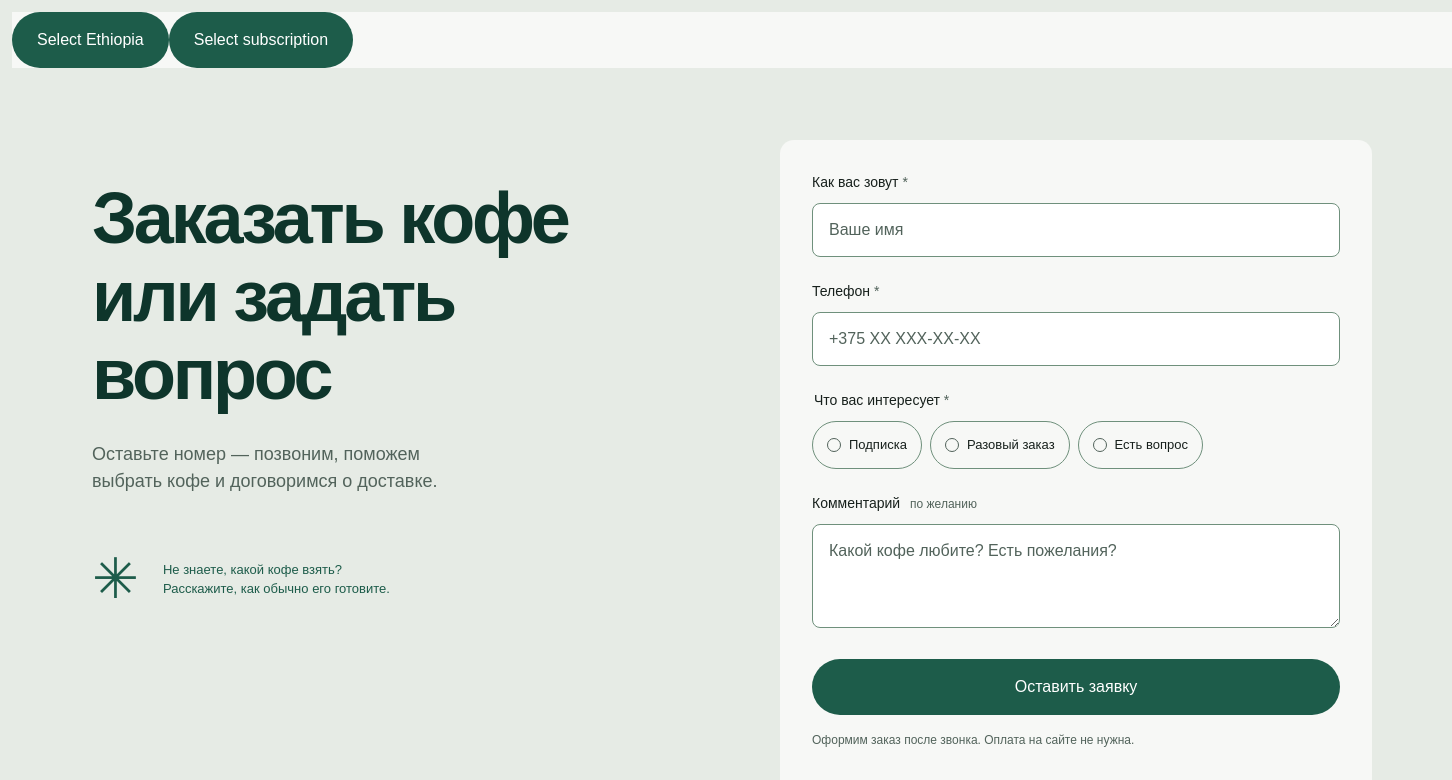
Scenario: preserves an edited comment and contacts while switching product to subscription
This screenshot has width=1452, height=780.
Step 1. Type "Тест" into the field labelled "Как вас зовут *" → x=1076, y=230, box [812, 203, 1340, 257]
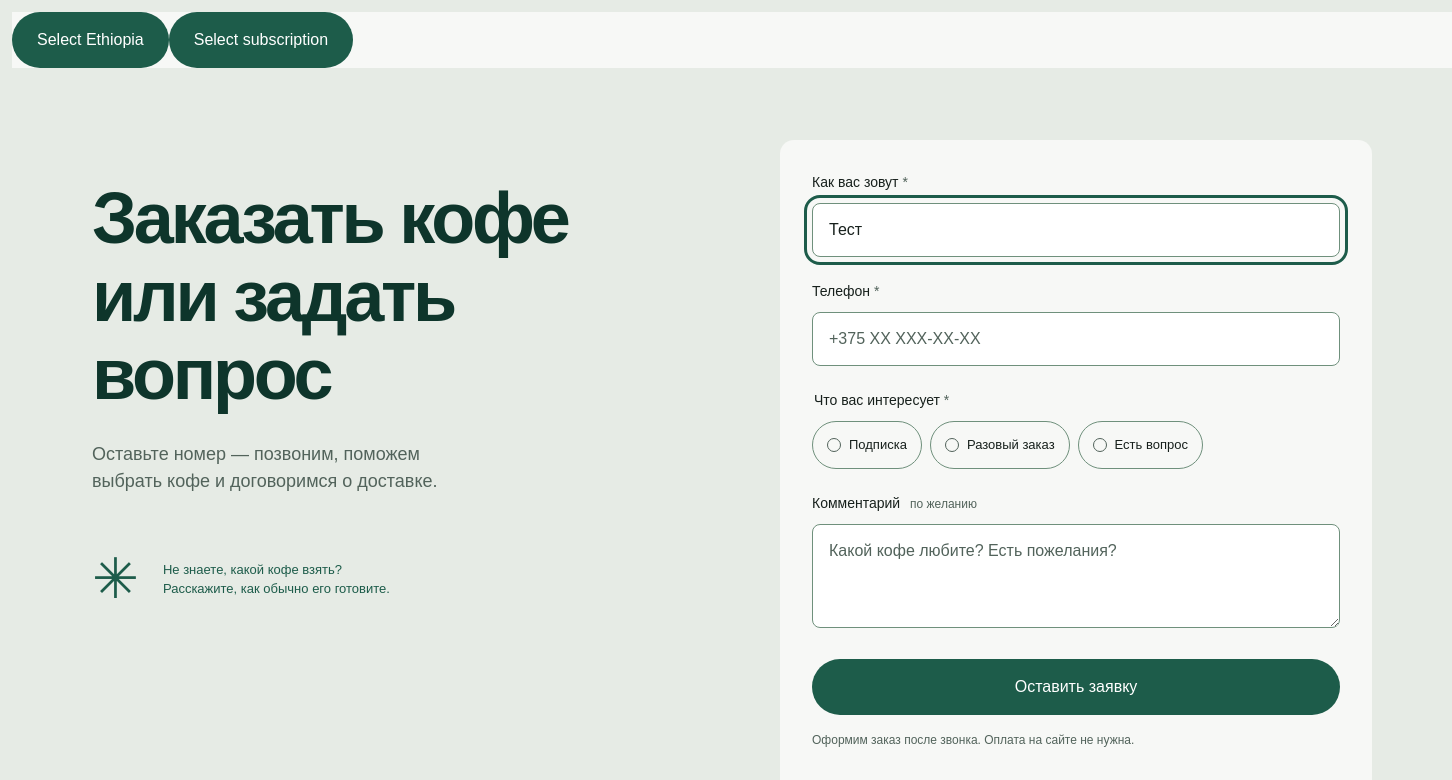
Step 2. Type "Без помола" into the text box labelled "Комментарий по желанию" → x=1076, y=576, box [812, 524, 1340, 628]
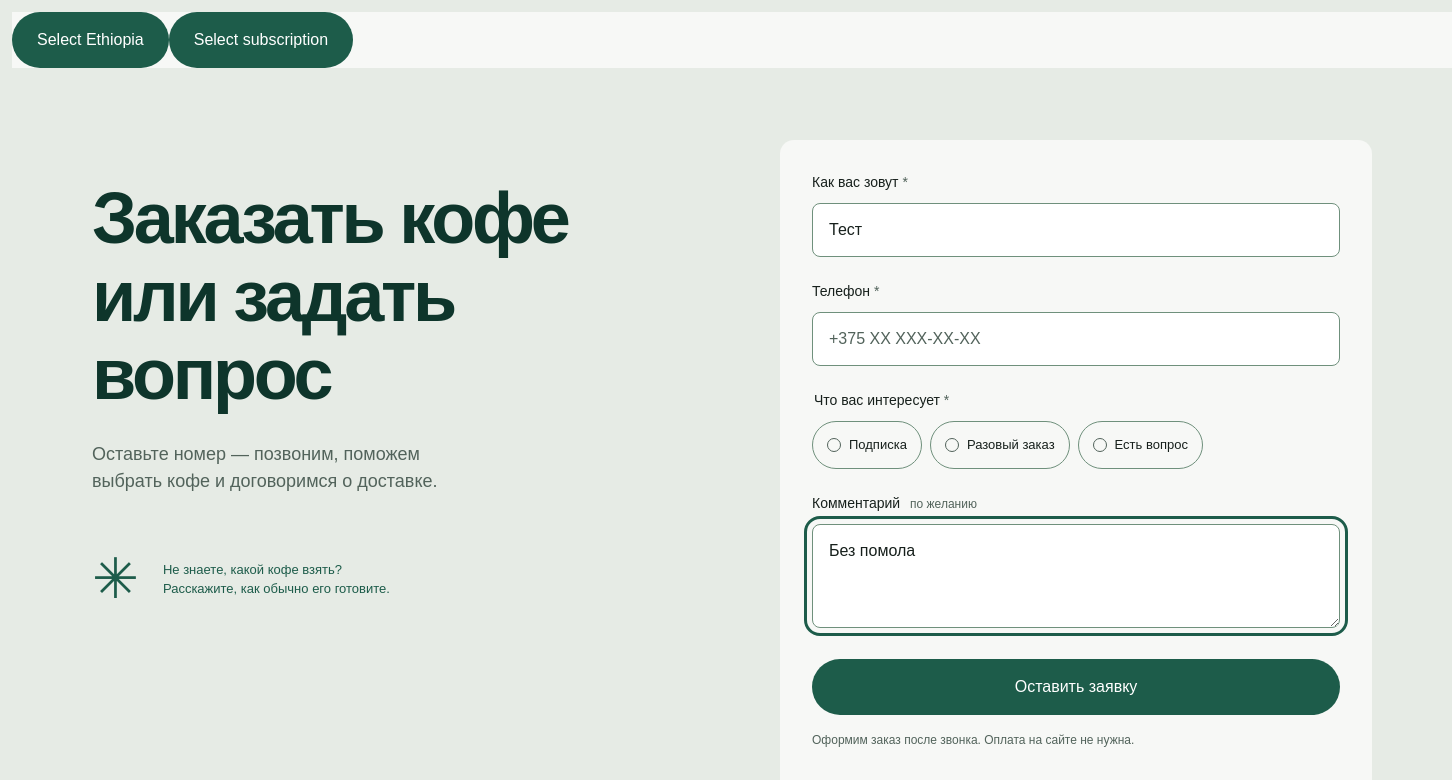
Step 3. Click the button "Select Ethiopia" → x=90, y=40, box [12, 12, 169, 68]
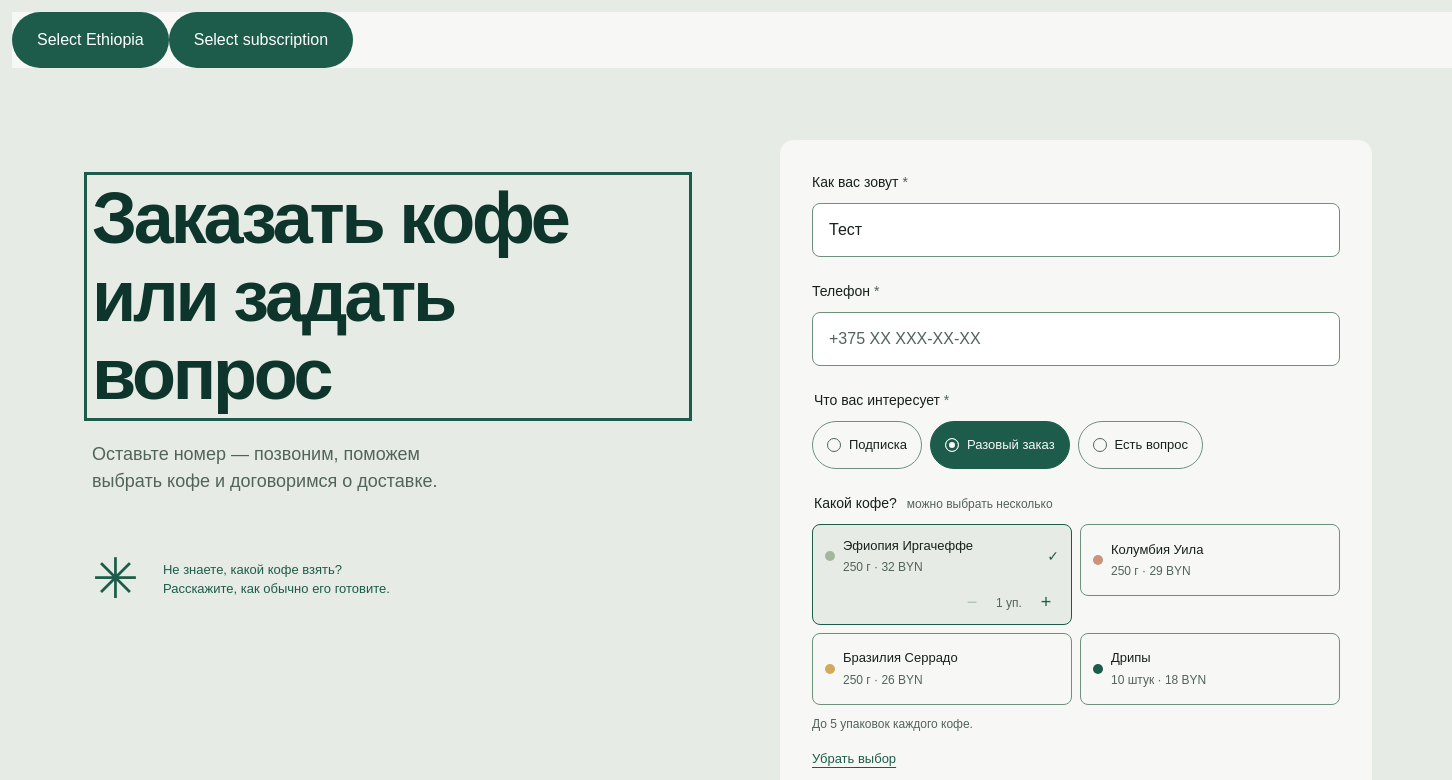
Expected: the text "Эфиопия Иргачеффе" is shown, [843, 537, 973, 555]
Step 4. Click the button "Select subscription" → x=261, y=40, box [169, 12, 353, 68]
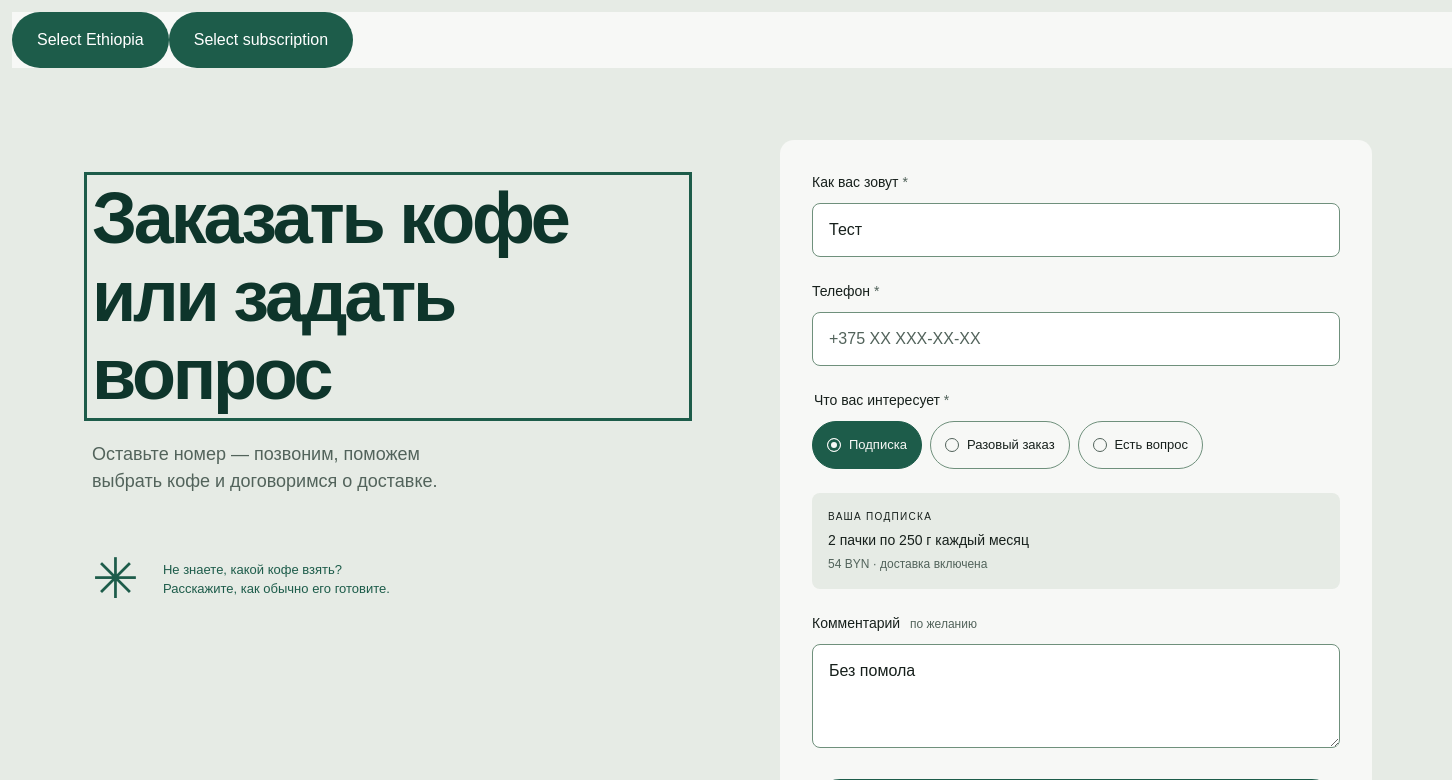
Expected: the text "Эфиопия Иргачеффе" is gone
Expected: the radio button labelled "Подписка" is checked, [812, 421, 922, 469]
